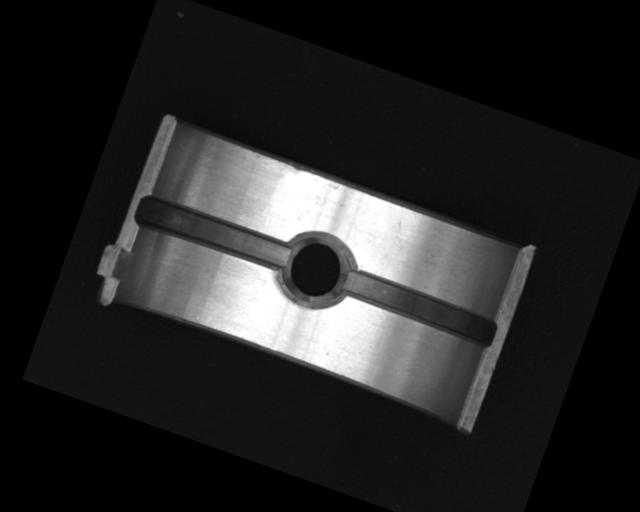gap: (334, 263, 502, 352), (132, 190, 294, 275)
hole: (271, 223, 362, 317)
